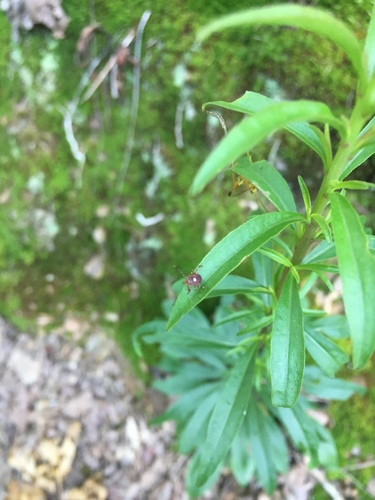dog tick: (230, 256, 256, 282)
